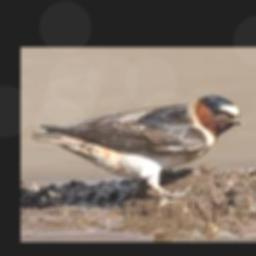Swallow: (33, 95, 243, 197)
